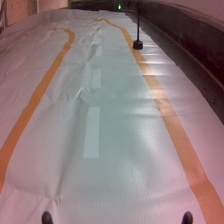green: (115, 1, 145, 53)
